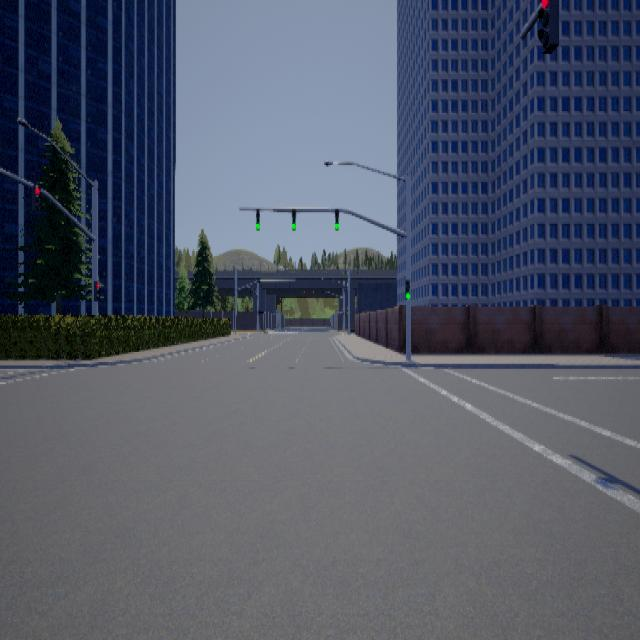green_light: (404, 278, 409, 298), (334, 207, 338, 229), (291, 207, 295, 229), (255, 207, 259, 229)
red_light: (537, 0, 558, 52), (31, 183, 40, 210), (93, 280, 100, 300)
